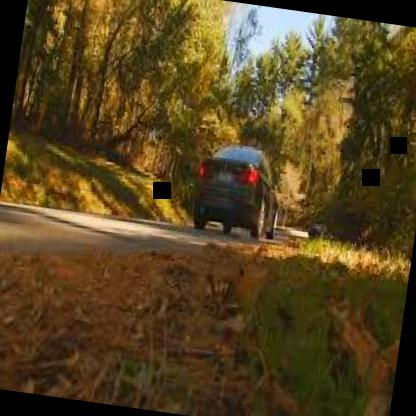car: (164, 108, 296, 266)
